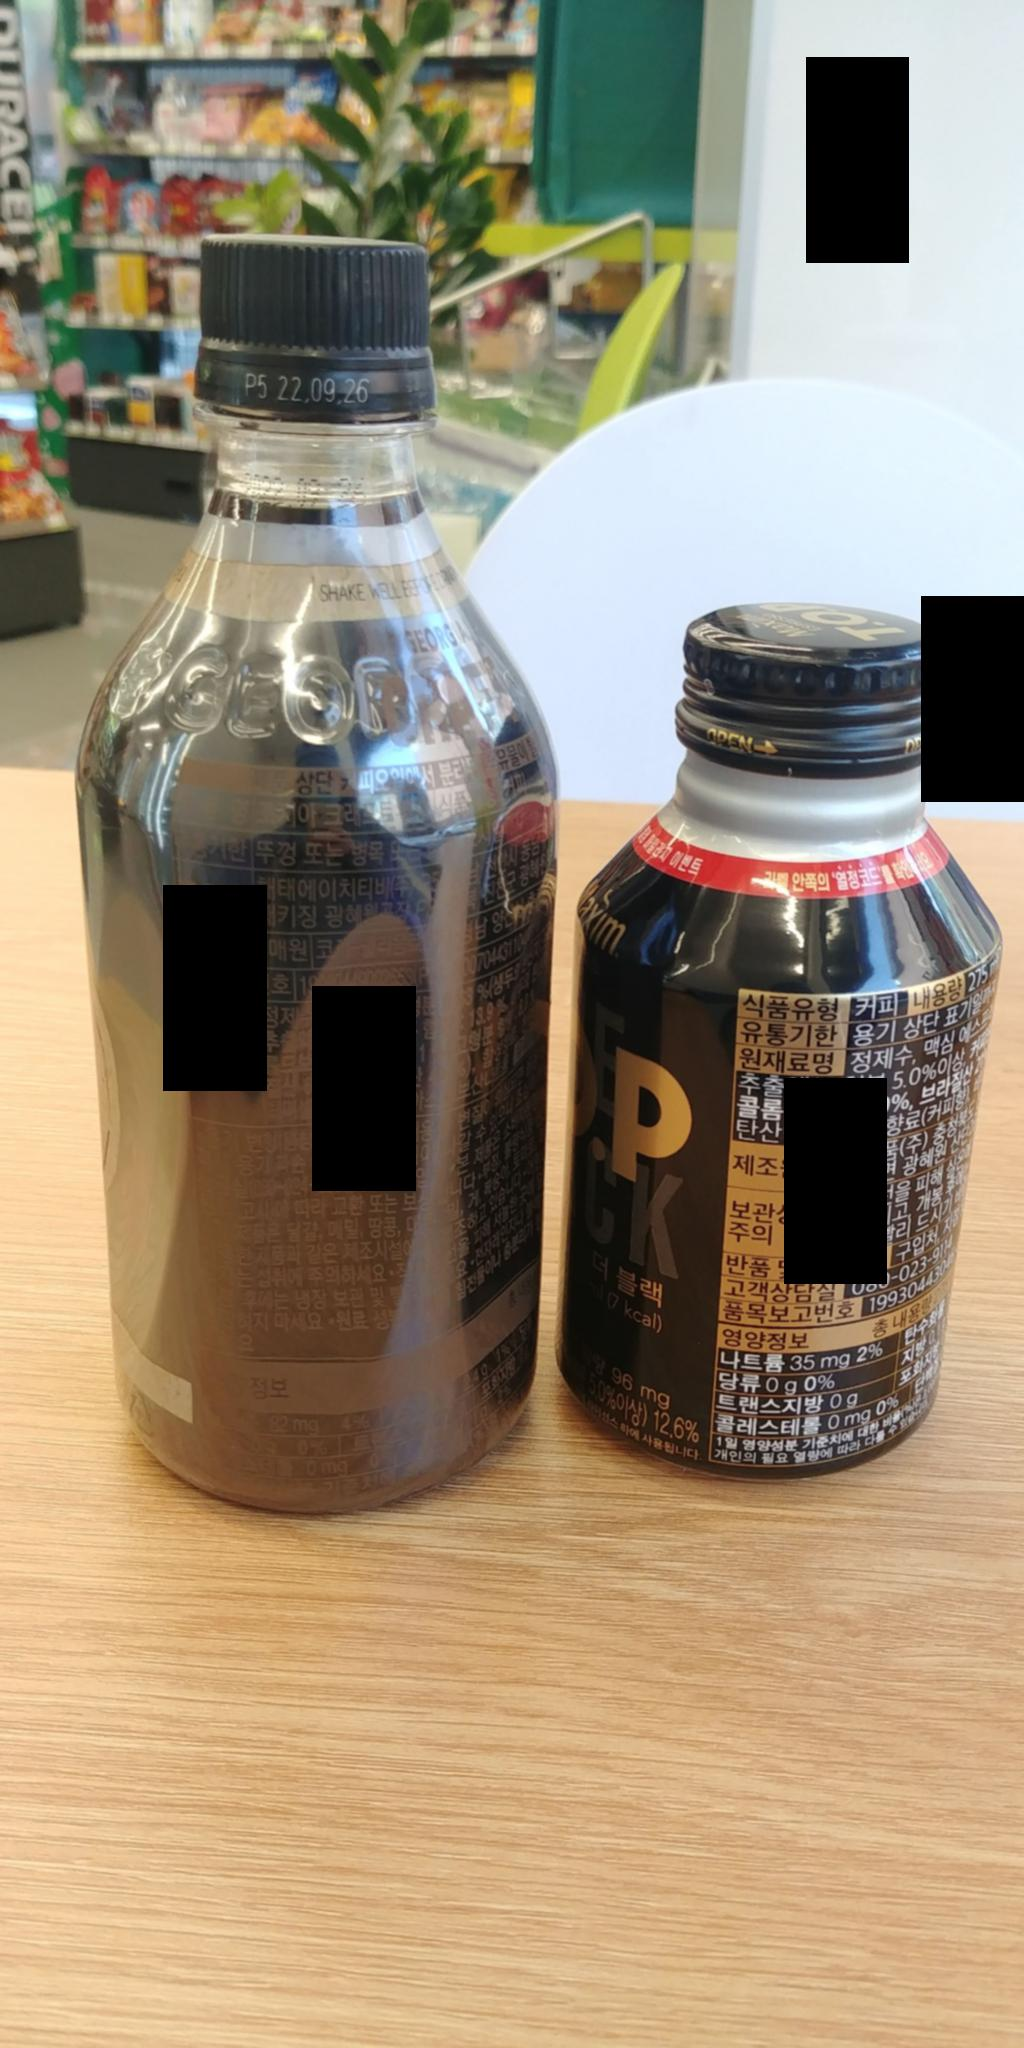TOP_black: (528, 576, 982, 1505)
georgiacraft_black: (51, 196, 542, 1533)
